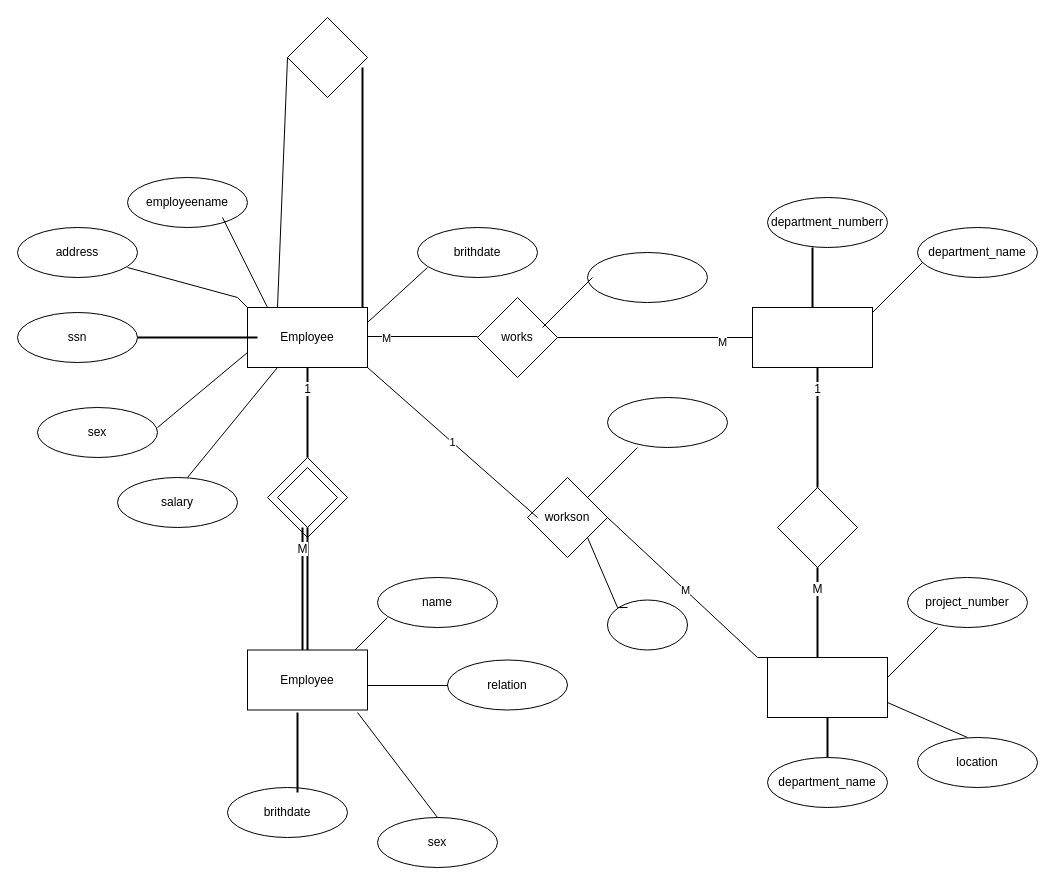
Image size: 1055x885. Some labels were removed from this diagram. The shapes that lost their labels are listed below. From the top down, each one's box as (x1, y1, x2, y2) in pixels, then its label:
(286, 16, 368, 98): supervise
(586, 252, 708, 302): startdate
(752, 306, 872, 368): Department
(606, 396, 728, 448): directsupervisor
(276, 466, 338, 528): has
(776, 486, 858, 568): control
(606, 599, 688, 650): numberofhours
(766, 656, 888, 718): Project
